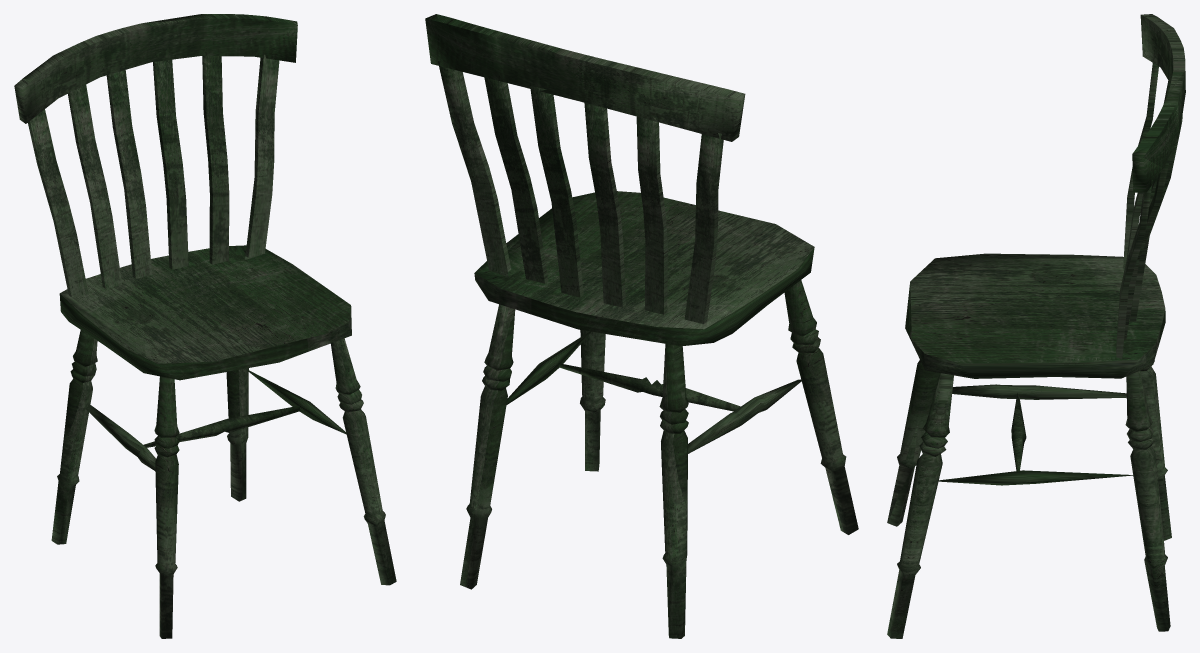
Rendered from chair7.fbx.
3 renders of one model, left to right at view 1: azimuth 30°, elevation 25°; view 2: azimuth 150°, elevation 25°; view 3: azimuth 270°, elevation 25°, orthographic. The views are drawn at different scales.
Visible parts, largest first — view 1: CHAIR_1-OBJ3_001; view 2: CHAIR_1-OBJ3_001; view 3: CHAIR_1-OBJ3_001.
Boxes of the visible parts, x1=… form: CHAIR_1-OBJ3_001: x1=14, y1=14, x2=396, y2=638; CHAIR_1-OBJ3_001: x1=425, y1=14, x2=858, y2=638; CHAIR_1-OBJ3_001: x1=887, y1=14, x2=1185, y2=638.
Size of the model in its own units: 58.9 by 98.87 by 52.02.
Materials: 1 (1 with a texture image).
